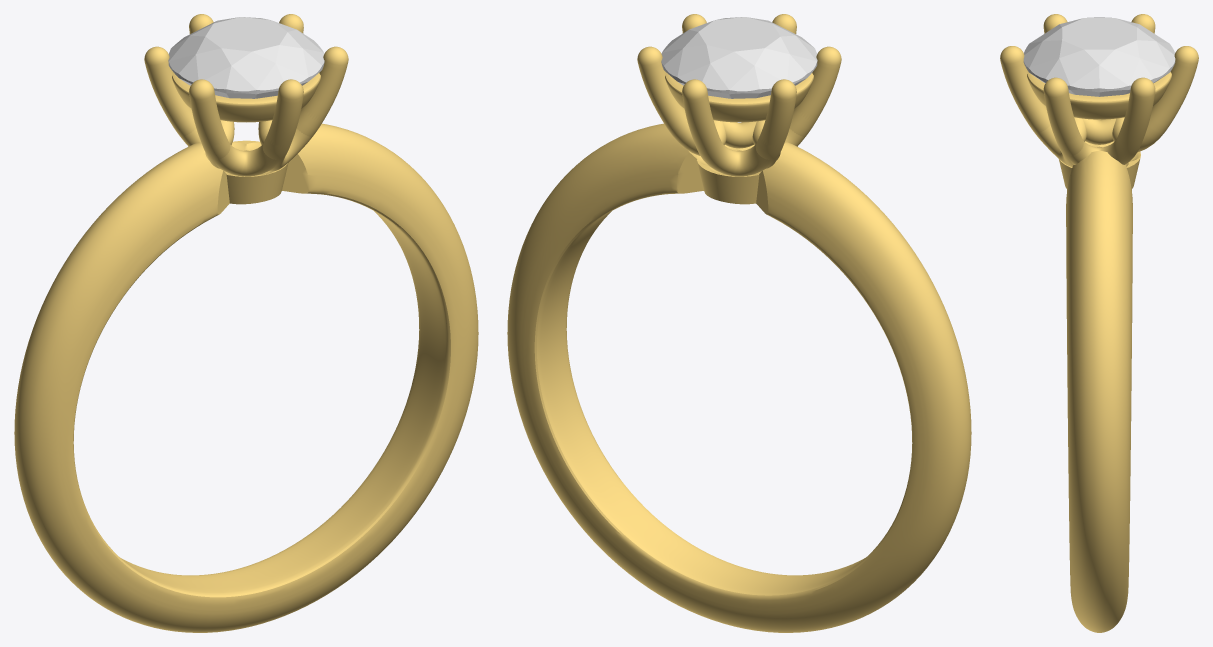
Rendered from YGtulipRR.glb.
3 views of the same model, side by side, from view 1: azimuth 30°, elevation 25°; view 2: azimuth 150°, elevation 25°; view 3: azimuth 270°, elevation 25° (orthographic). The views are drawn at different scales.
Visible parts, largest first — view 1: Jinsu PT for 3d model, Jinsu dia for 3d model; view 2: Jinsu PT for 3d model, Jinsu dia for 3d model; view 3: Jinsu PT for 3d model, Jinsu dia for 3d model.
Boxes of the visible parts, bbox=[...] form: Jinsu PT for 3d model: bbox=[14, 14, 478, 632]; Jinsu dia for 3d model: bbox=[168, 17, 324, 98]; Jinsu PT for 3d model: bbox=[507, 14, 971, 632]; Jinsu dia for 3d model: bbox=[661, 17, 817, 98]; Jinsu PT for 3d model: bbox=[1000, 14, 1198, 632]; Jinsu dia for 3d model: bbox=[1023, 17, 1175, 96].
Bounding box in the file's own units: 20.72 × 25.6 × 8.02.
